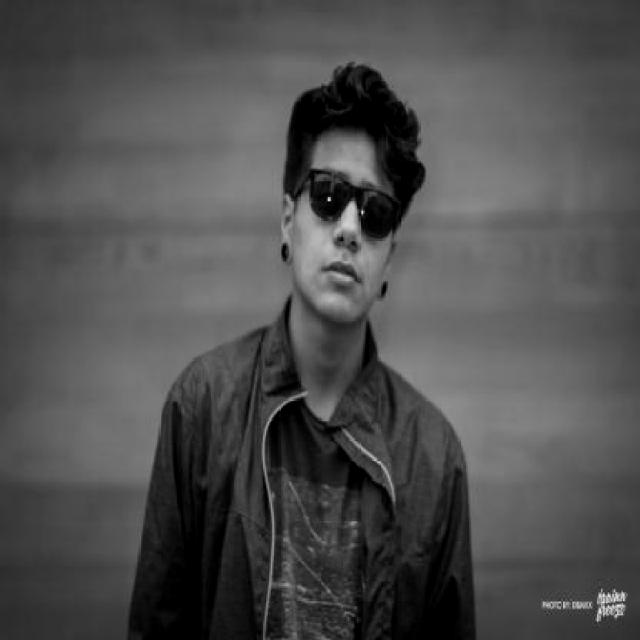face_nomask: (306, 167, 396, 296)
glasses: (292, 162, 410, 235)
head_nohelmet: (283, 76, 419, 162)
person: (146, 71, 480, 640)
